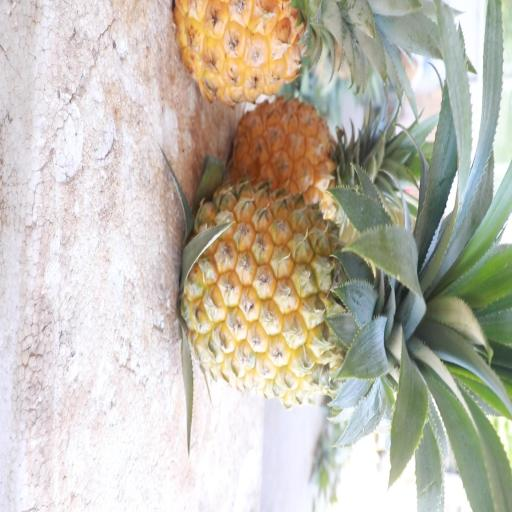Pineapple - v8 v1: (178, 178, 416, 414), (171, 0, 364, 108), (231, 90, 370, 224), (244, 98, 244, 99)
